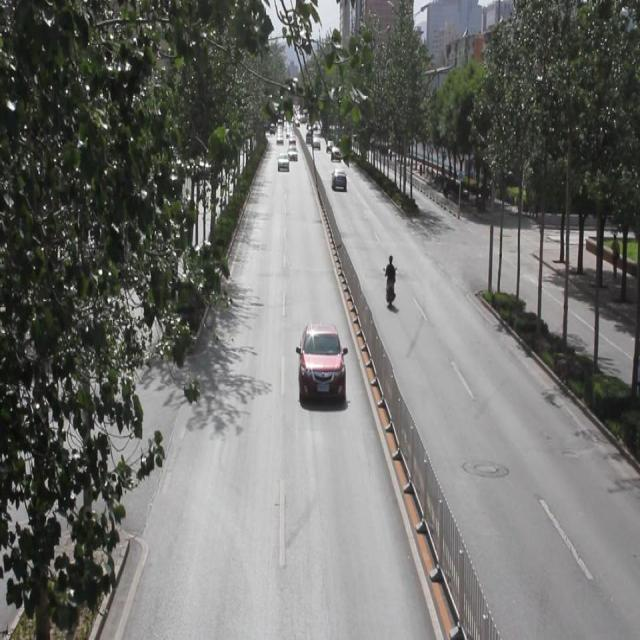car: (295, 321, 346, 402), (330, 165, 347, 186), (277, 151, 289, 170), (287, 143, 298, 160)
